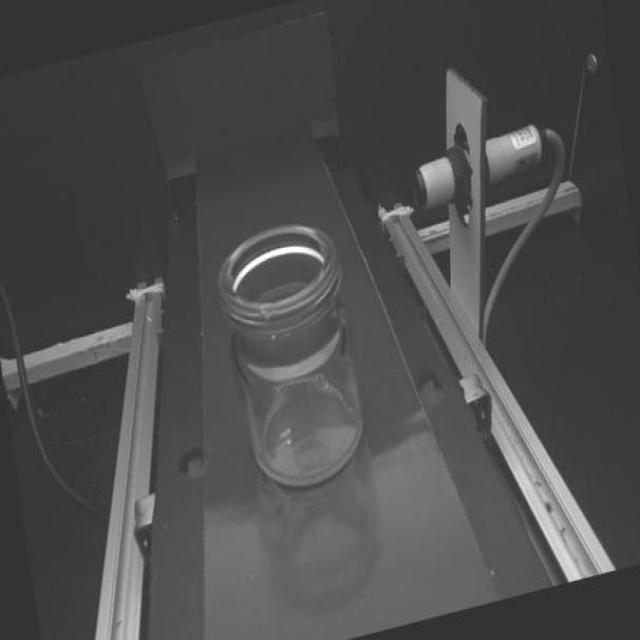defect: (258, 304, 274, 320), (269, 332, 277, 340)
glass: (211, 208, 372, 502)
